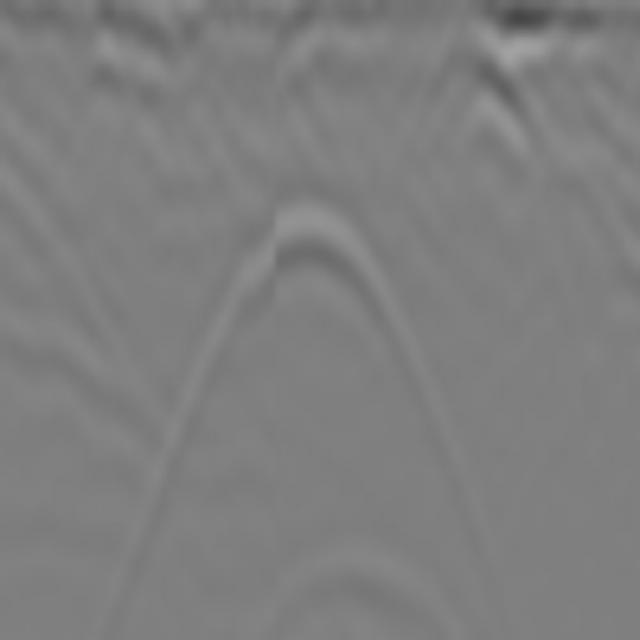hyperbola: (199, 188, 422, 374)
